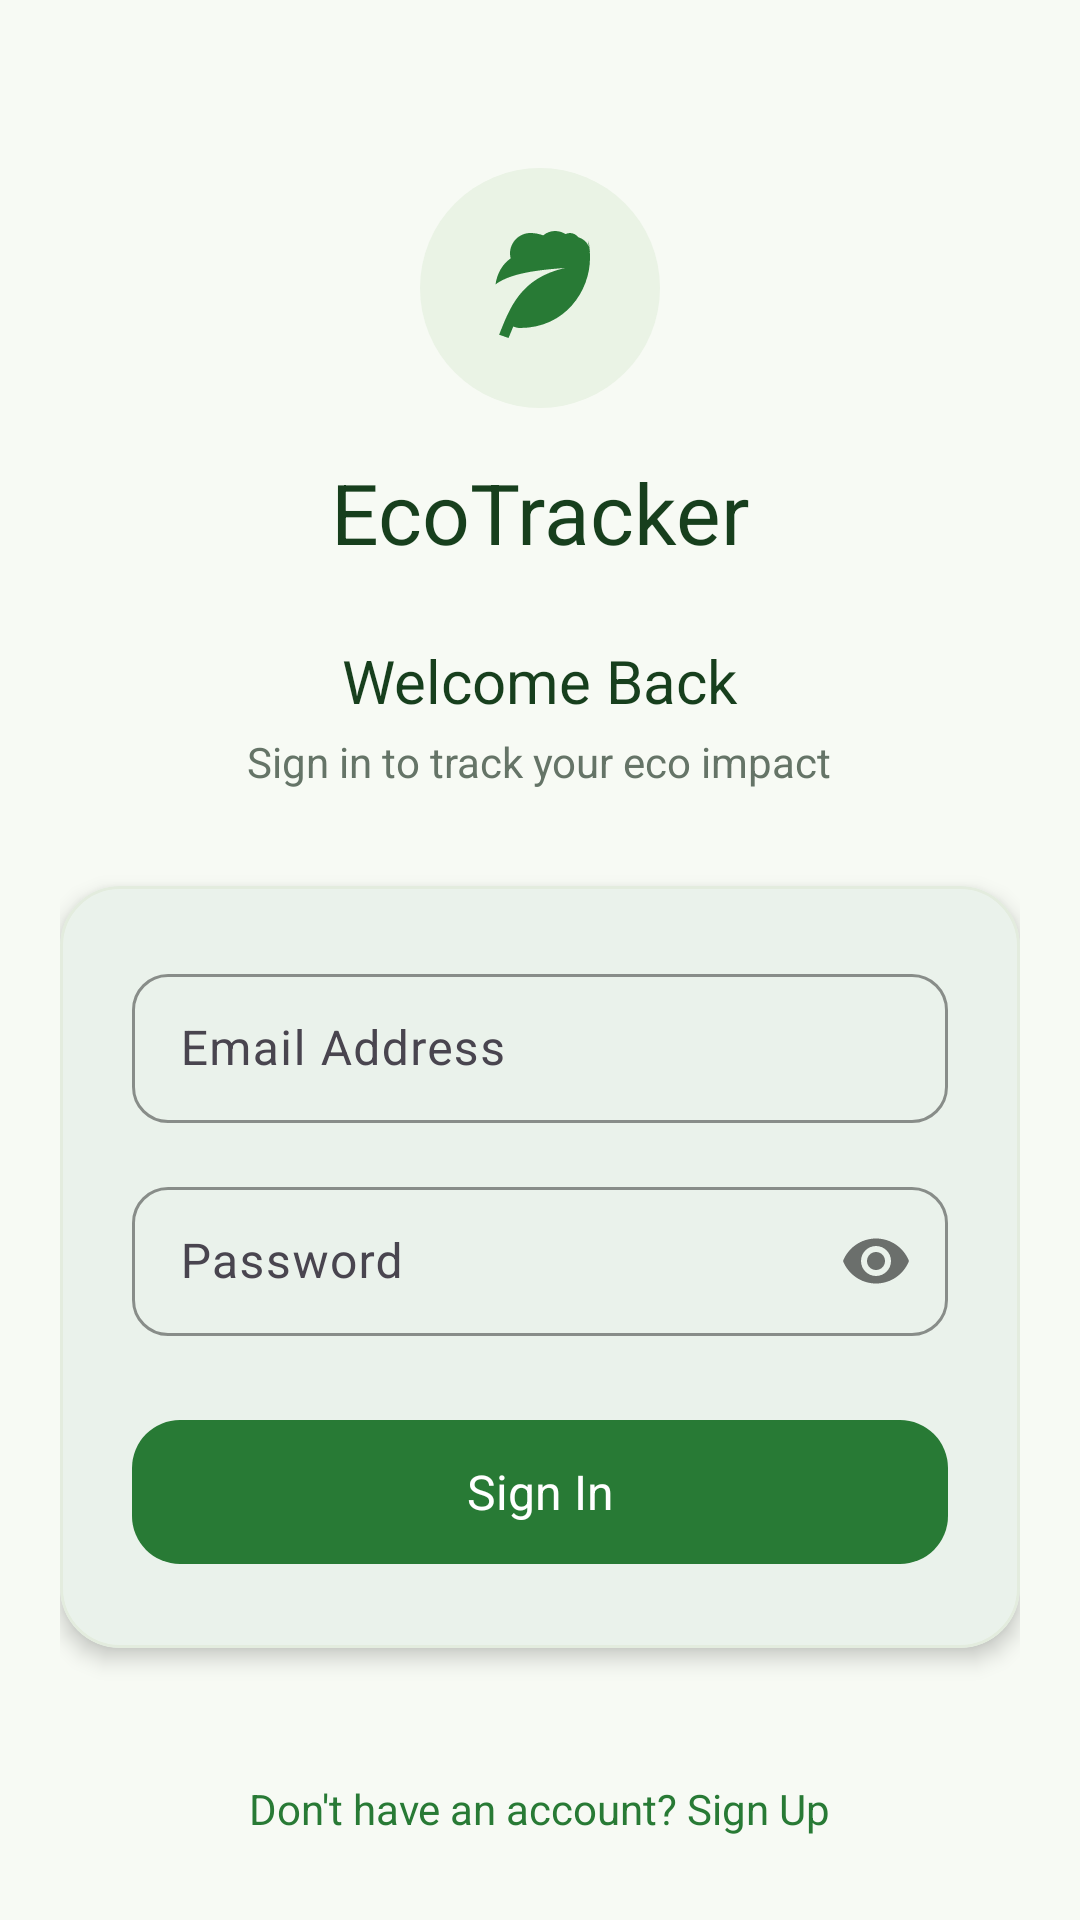

Named icons in this screenshot (1080w x 1920h) and their centers, point (x, y):
leaf: point (542, 284)
